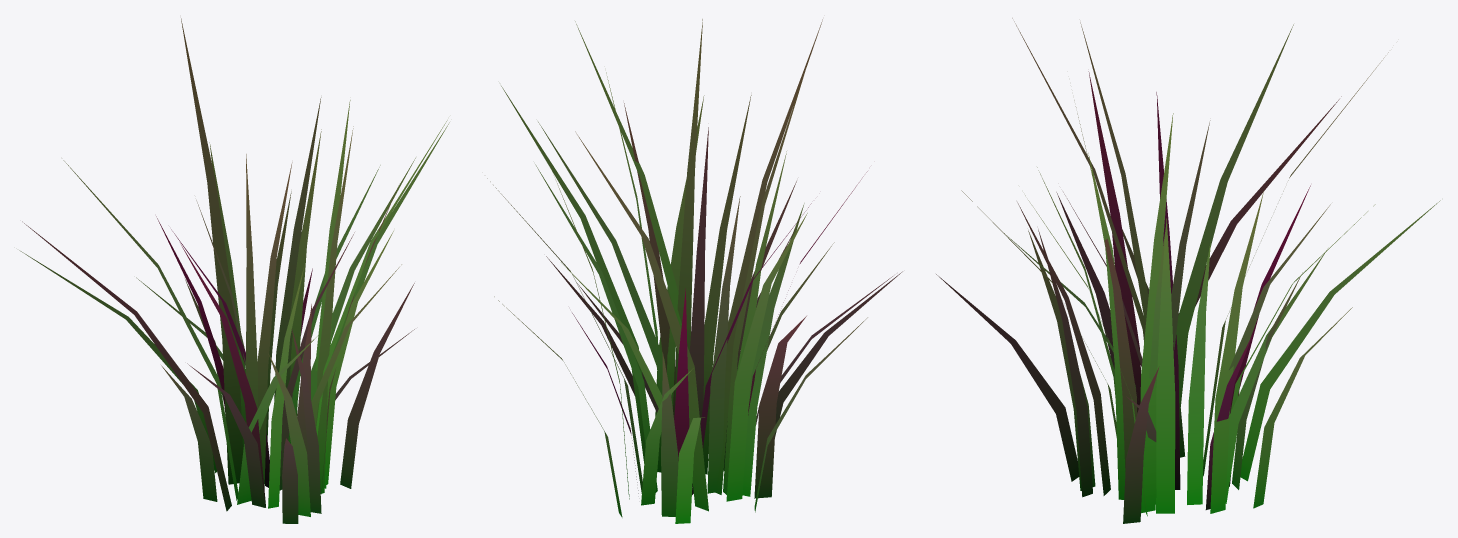
The model's file is meadow-grass.glb.
The picture shows the model from 3 angles, left to right: view 1: azimuth 30°, elevation 25°; view 2: azimuth 150°, elevation 25°; view 3: azimuth 270°, elevation 25°; orthographic projection. The views are drawn at different scales.
Parts seen in each view (by area): view 1: grass_a_LOD0, grass_b_LOD0, grass_c_LOD0; view 2: grass_a_LOD0, grass_b_LOD0, grass_c_LOD0; view 3: grass_a_LOD0, grass_b_LOD0, grass_c_LOD0.
Part boxes in pixels (box(x1,y1,x2,y2)): grass_a_LOD0: box(63, 18, 449, 500); grass_b_LOD0: box(22, 129, 401, 513); grass_c_LOD0: box(19, 191, 414, 523); grass_a_LOD0: box(487, 19, 822, 511); grass_b_LOD0: box(552, 95, 892, 499); grass_c_LOD0: box(494, 242, 902, 523); grass_a_LOD0: box(1012, 18, 1388, 513); grass_b_LOD0: box(961, 71, 1375, 516); grass_c_LOD0: box(936, 185, 1440, 523).
Size of what is drawn, in the model's own units: 0.7028 by 0.752 by 0.758.
